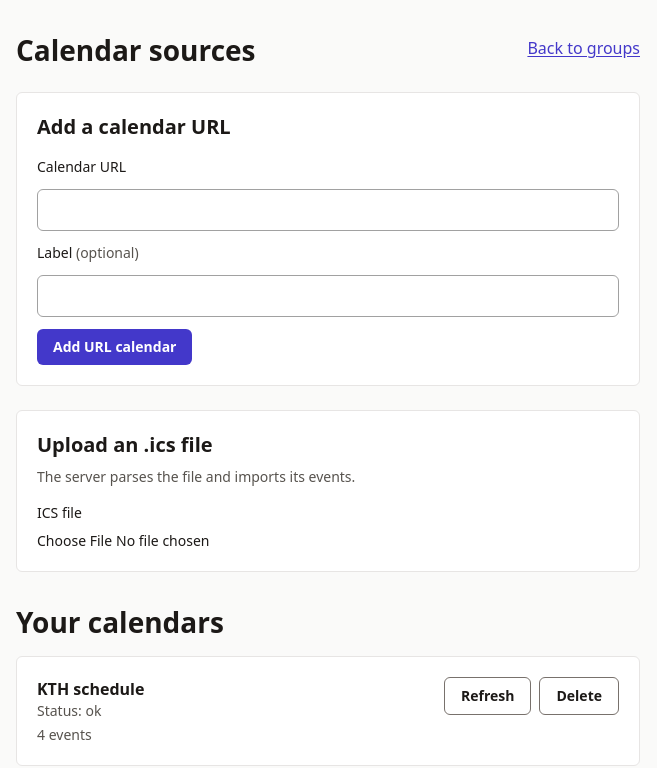
Test: CalendarSourcesPage › adds a URL source
The width and height of the screenshot is (657, 768).
Expected: the heading "KTH schedule" is shown, [37, 677, 144, 701]
Type "https://example.org/feed.ics" into the field labelled "Calendar URL" at (328, 210), box [37, 189, 619, 231]
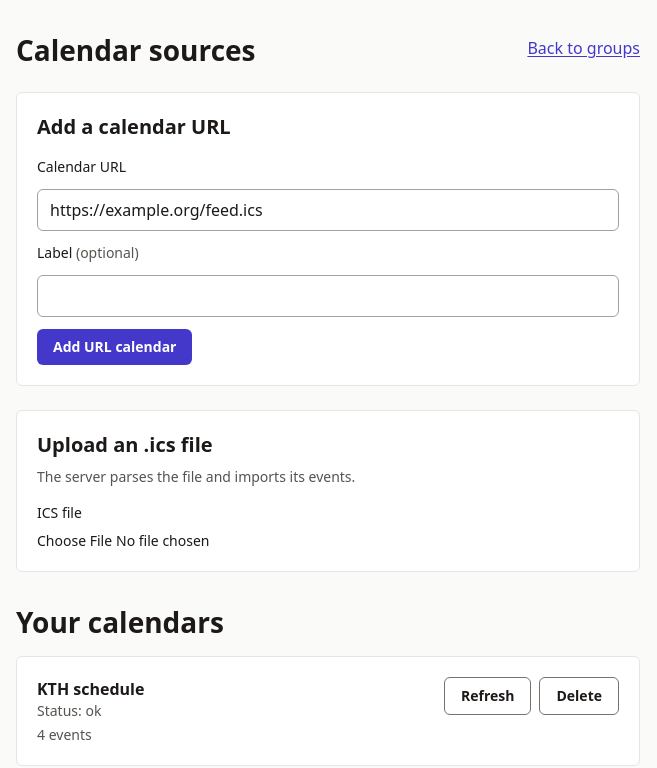
Type "Classes" into the field labelled "Label (optional)" at (328, 296), box [37, 275, 619, 317]
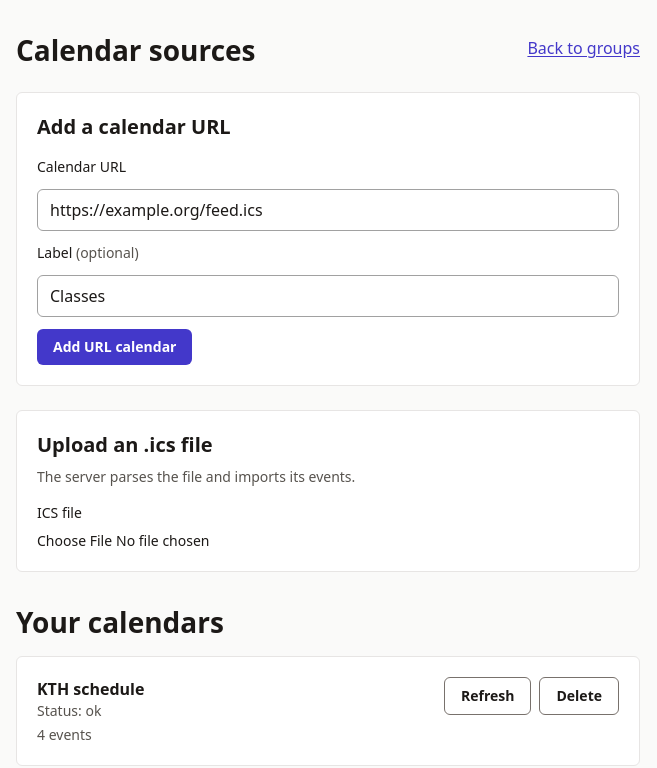
Click the button "Add URL calendar" at (115, 347), box [37, 329, 192, 365]
(page scrolled)
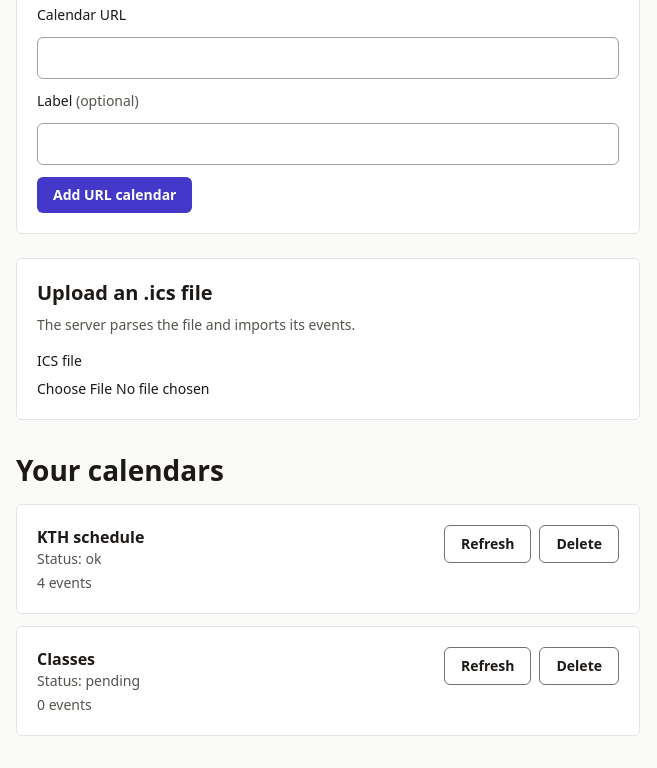
Expected: the heading "Classes" is shown, [37, 648, 95, 670]
